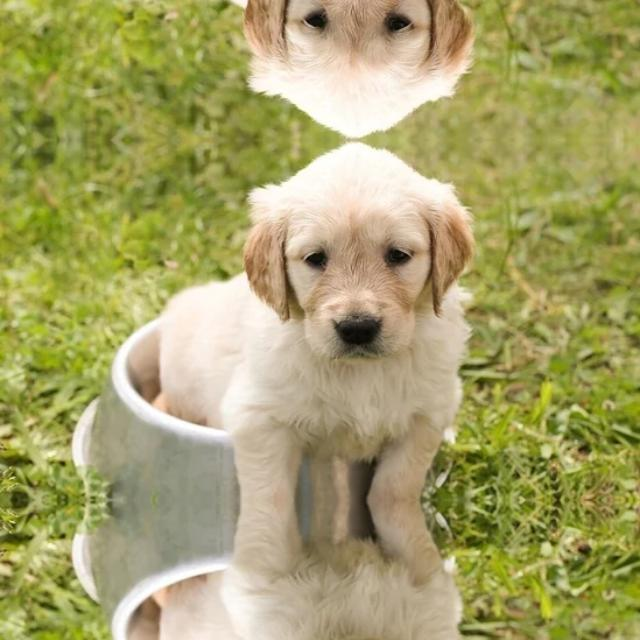dog: (232, 139, 486, 377), (231, 0, 486, 139), (231, 621, 486, 640)
